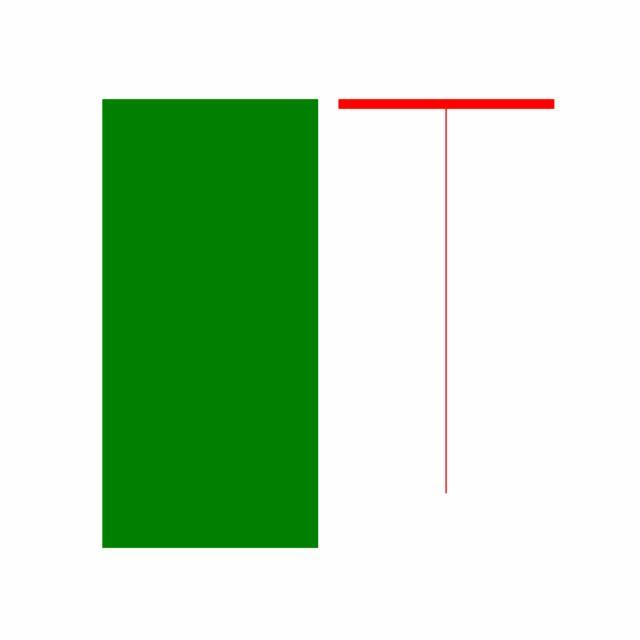Dragonfly Doji: (328, 96, 566, 499)
